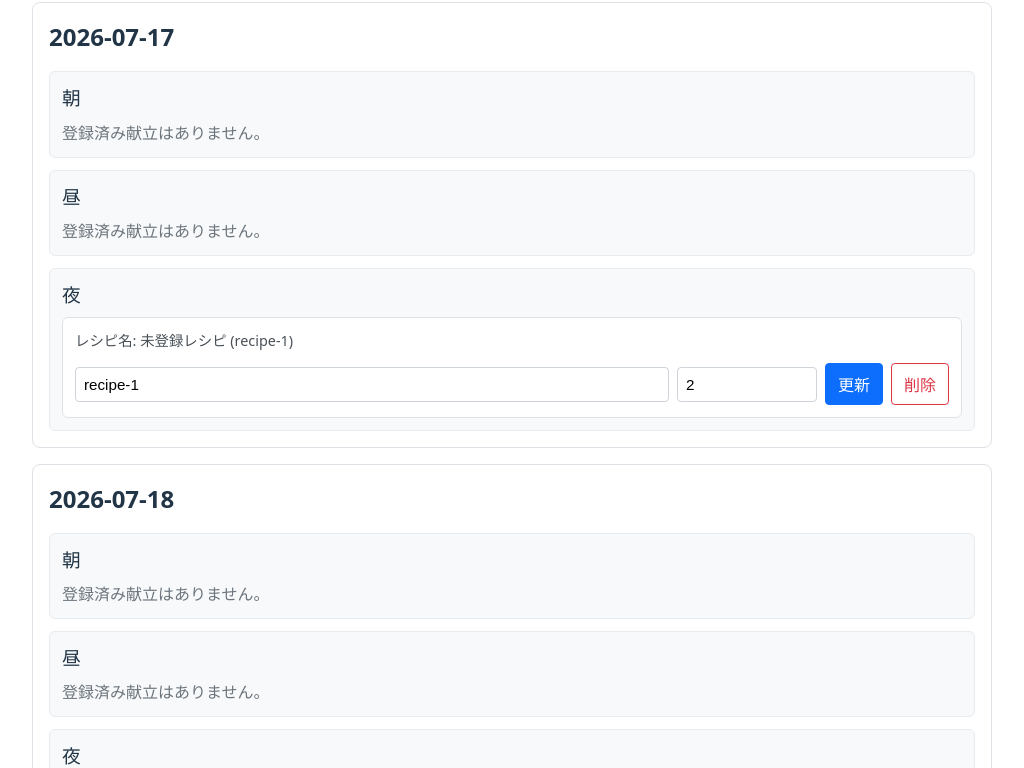
Scenario: MenusPage › 編集時の人数が0なら更新しない
(page scrolled)
Replace the text in the number field named "人数" with "0": [747, 384] box [677, 367, 817, 402]
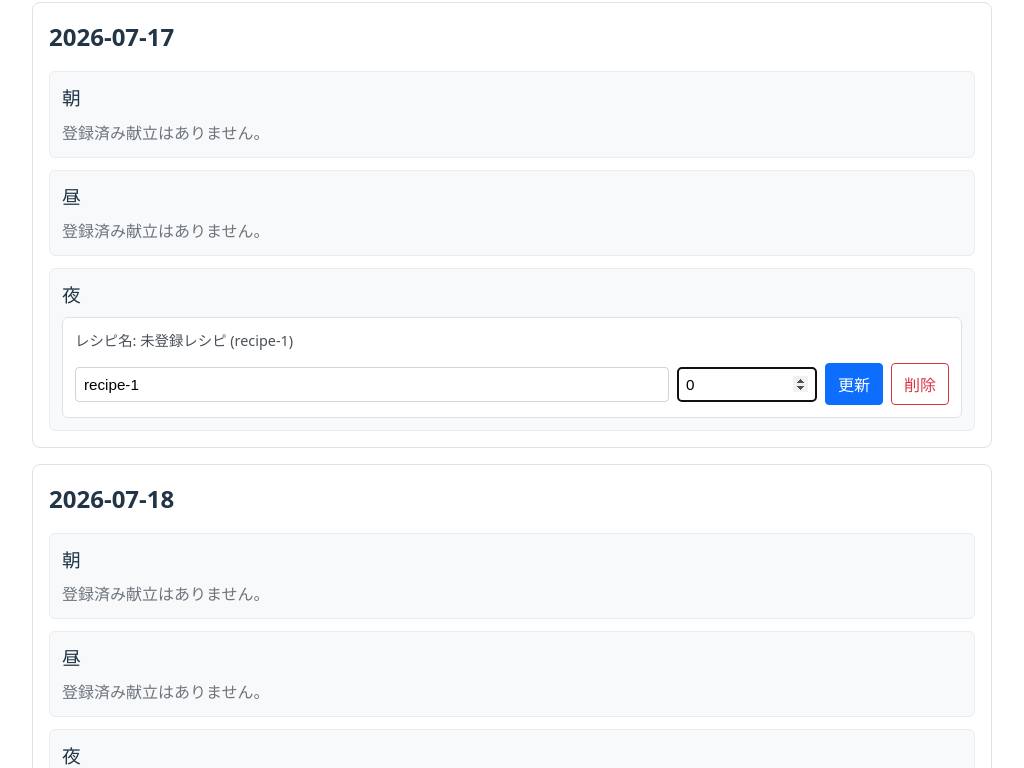
Click the button "更新": [854, 384] box [825, 363, 883, 405]
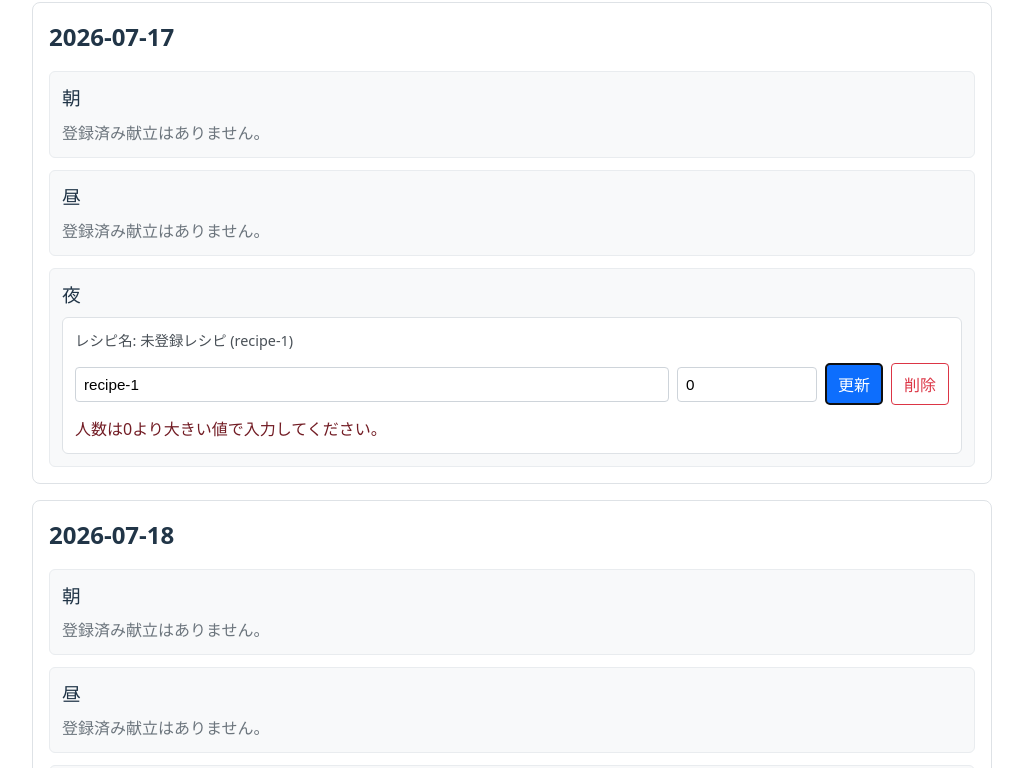
Check: the text "人数は0より大きい値で入力してください。" is shown, box [75, 418, 387, 440]
